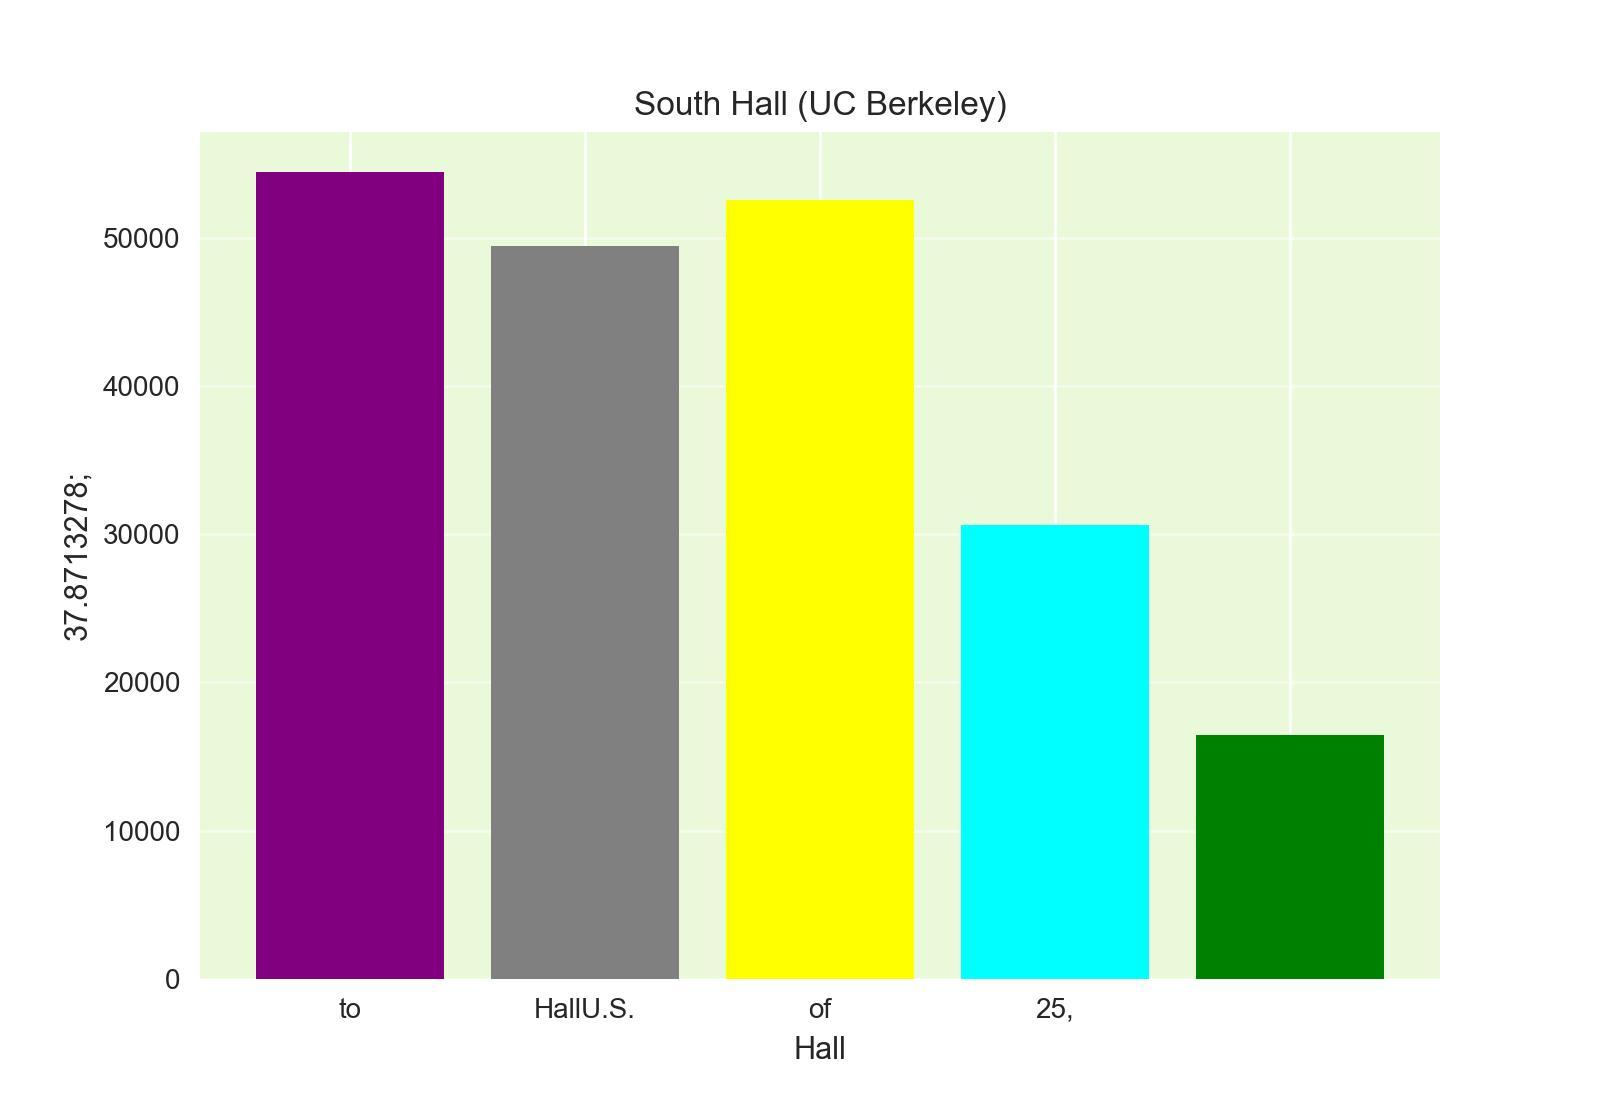axis: (62, 229, 180, 995)
rectangle: (257, 173, 445, 978), (726, 201, 914, 978), (491, 246, 678, 978), (960, 525, 1149, 978), (1195, 735, 1384, 978)
